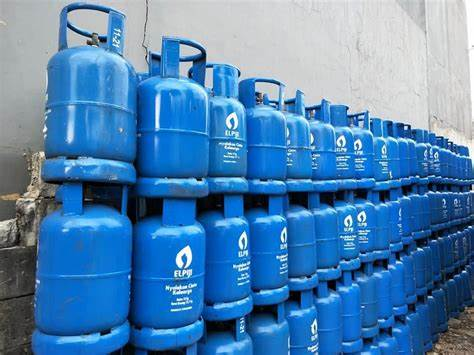blue_gas: (42, 3, 139, 186), (33, 181, 131, 355), (138, 36, 209, 200), (133, 200, 205, 351), (187, 63, 248, 196), (205, 195, 254, 323), (231, 80, 285, 196), (263, 93, 313, 196), (245, 195, 288, 307), (288, 194, 319, 293), (306, 97, 336, 194), (285, 287, 321, 355), (392, 252, 429, 315), (336, 272, 364, 355), (315, 192, 341, 281), (370, 116, 400, 191), (362, 267, 394, 337), (413, 296, 452, 352), (251, 303, 290, 355), (331, 104, 354, 192), (317, 282, 344, 355), (336, 192, 360, 273), (431, 230, 472, 277), (202, 318, 252, 355), (349, 110, 373, 187), (393, 121, 421, 186), (443, 273, 474, 323), (356, 188, 376, 265), (442, 140, 474, 188), (391, 190, 413, 253), (378, 325, 419, 355), (375, 191, 392, 262), (420, 129, 441, 185), (412, 184, 433, 239), (432, 184, 456, 230), (459, 184, 474, 223)
